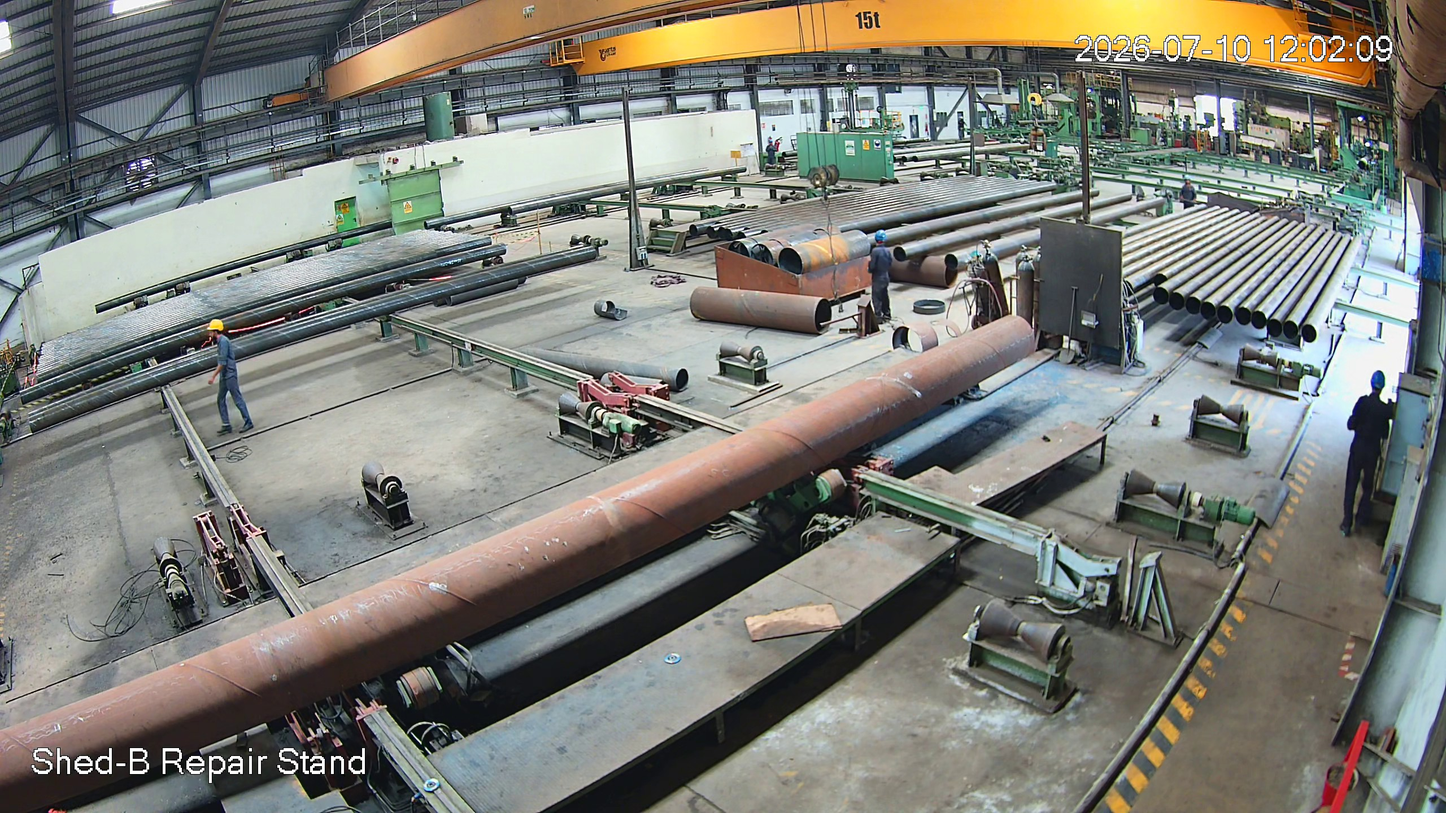Helmet: (1365, 367, 1397, 412), (203, 317, 232, 346), (872, 229, 890, 251)
Person: (1333, 369, 1397, 544), (201, 320, 252, 435), (868, 229, 890, 322)
